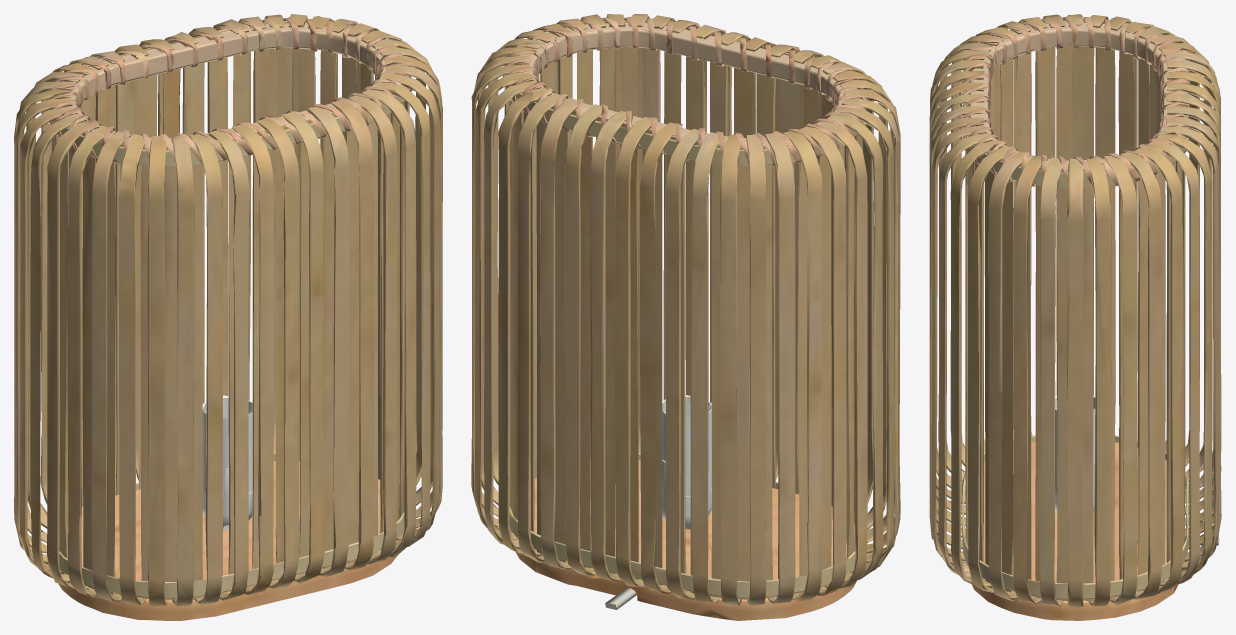
Rendered from 26 - VARPTROSS Table lamp - bamboo 26 cm.glb.
3 views of the same model, side by side, from view 1: azimuth 30°, elevation 25°; view 2: azimuth 150°, elevation 25°; view 3: azimuth 270°, elevation 25° (orthographic). The views are drawn at different scales.
Parts seen in each view (by area): view 1: ASY_ART_60601230_S01_NV01; view 2: ASY_ART_60601230_S01_NV01; view 3: ASY_ART_60601230_S01_NV01.
Boxes of the visible parts, x1,y1,x2,y2 form: ASY_ART_60601230_S01_NV01: [14, 14, 442, 620]; ASY_ART_60601230_S01_NV01: [471, 14, 900, 620]; ASY_ART_60601230_S01_NV01: [929, 14, 1221, 620].
Size of the model in its own units: 0.2205 by 0.2612 by 0.1508.
Materials: 2 (2 with a texture image).
